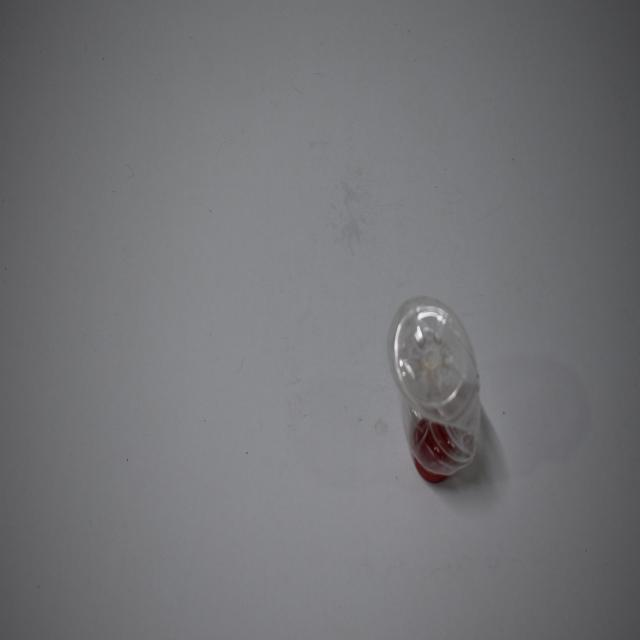bottle: (384, 292, 490, 485)
